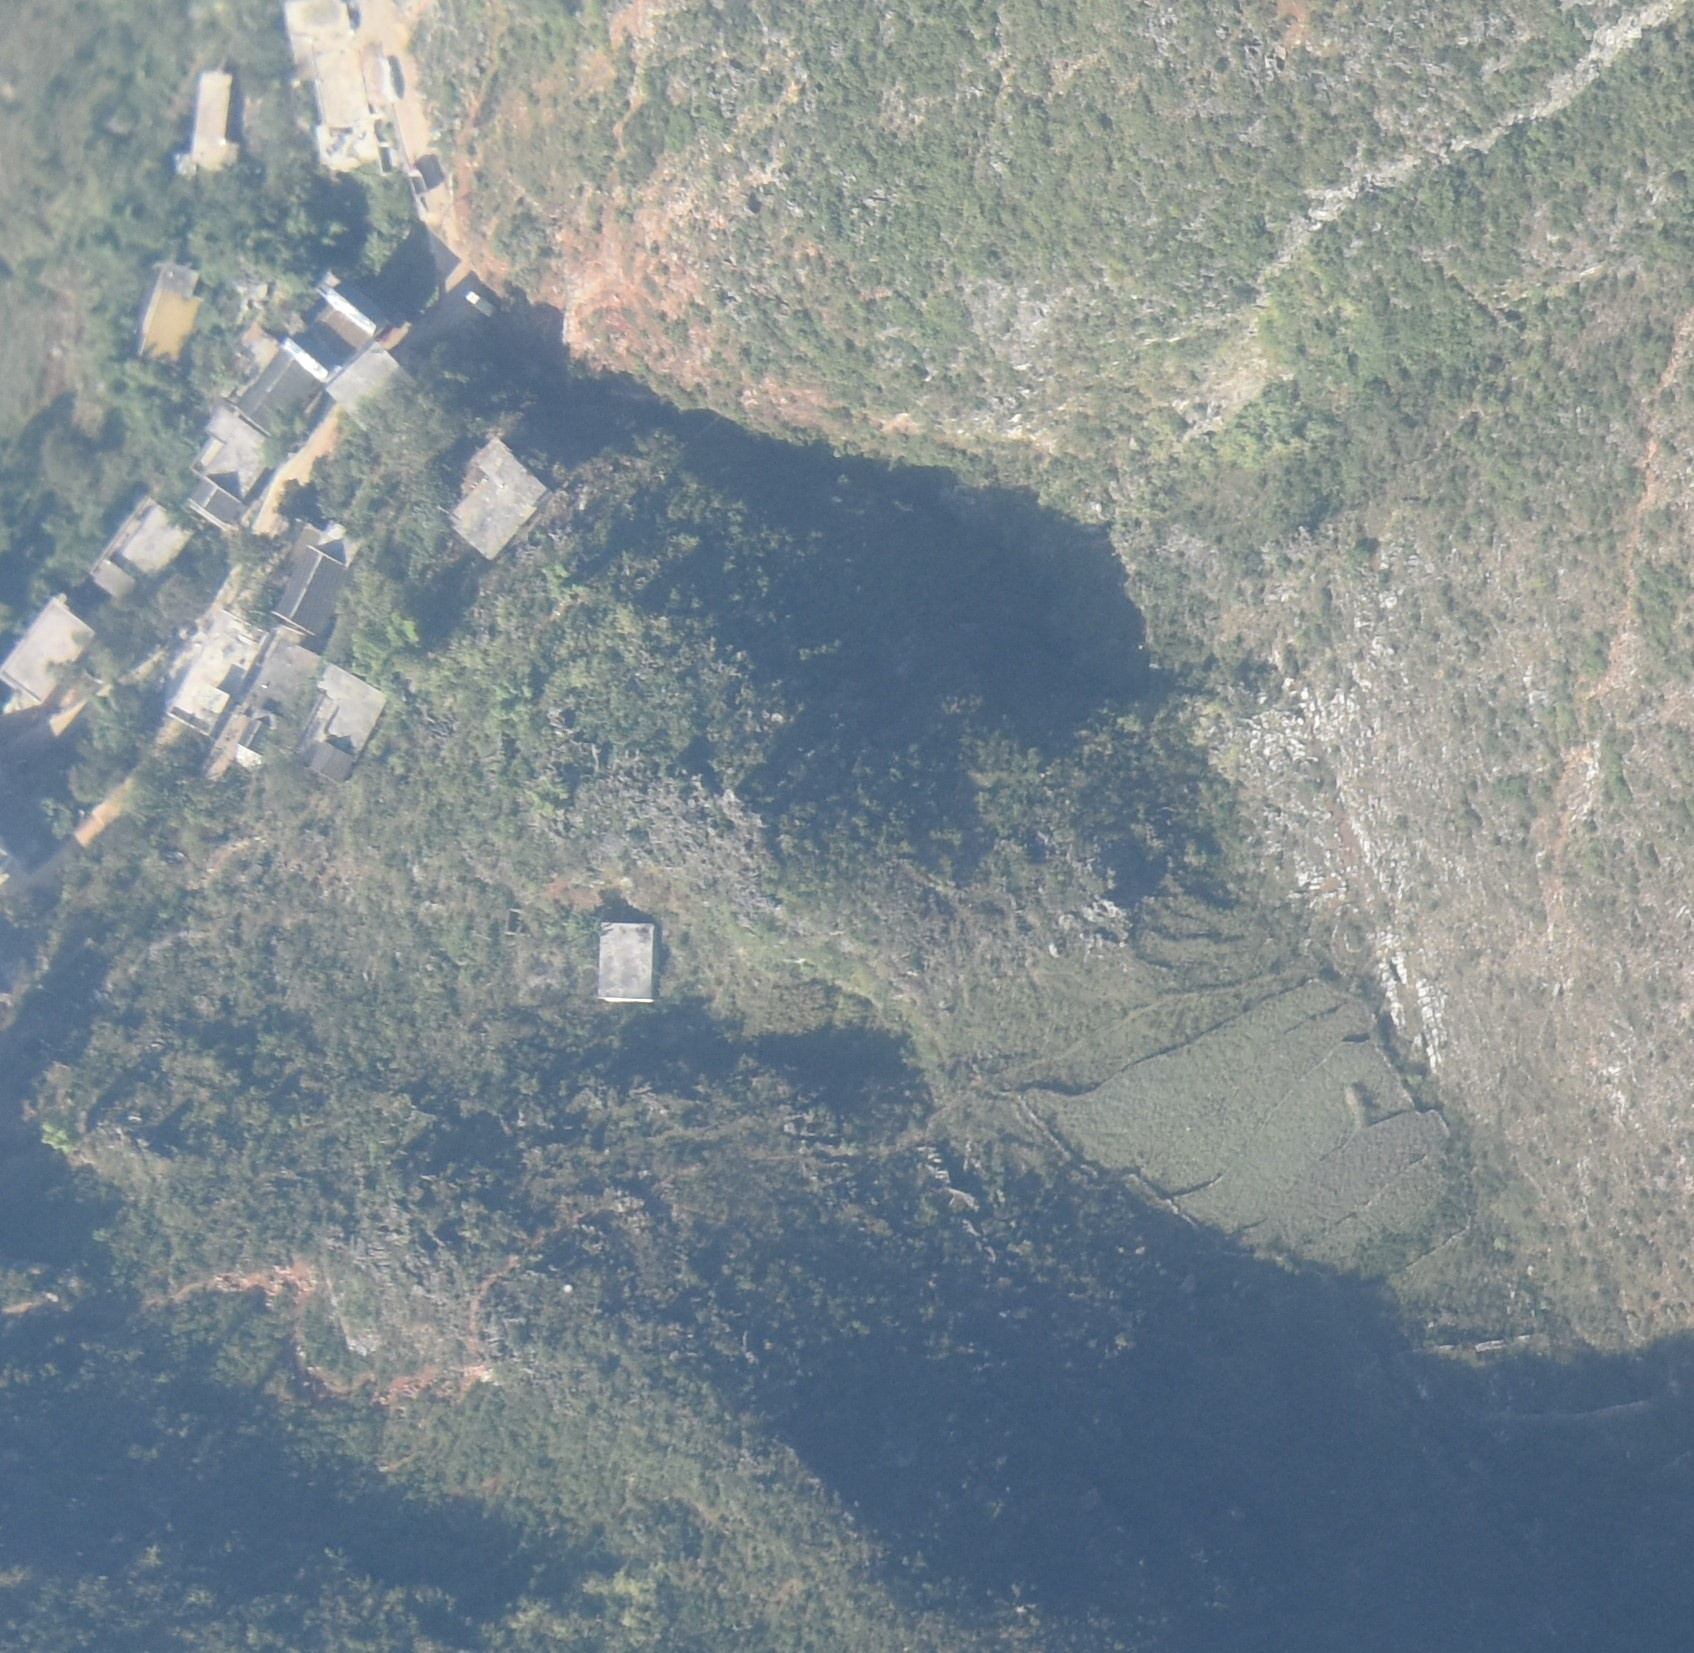building: (326, 340, 467, 478), (288, 4, 382, 170), (168, 609, 272, 740), (185, 401, 280, 536), (443, 442, 547, 562), (86, 489, 190, 602), (241, 638, 327, 759), (303, 665, 387, 780), (280, 525, 360, 642), (3, 600, 93, 702), (131, 256, 204, 369), (170, 64, 240, 179), (240, 351, 321, 436), (593, 921, 657, 1004), (328, 281, 383, 341), (278, 335, 335, 382)
vehicle: (463, 288, 492, 315)
